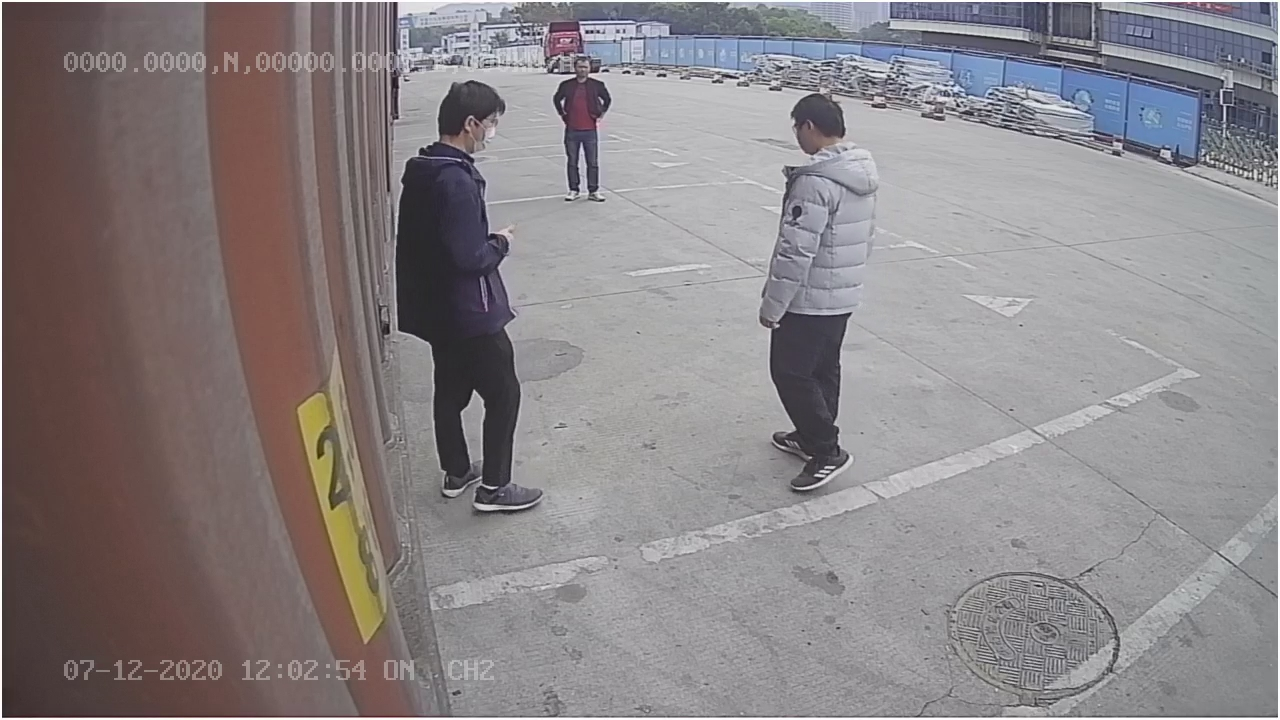person: (756, 92, 886, 495)
